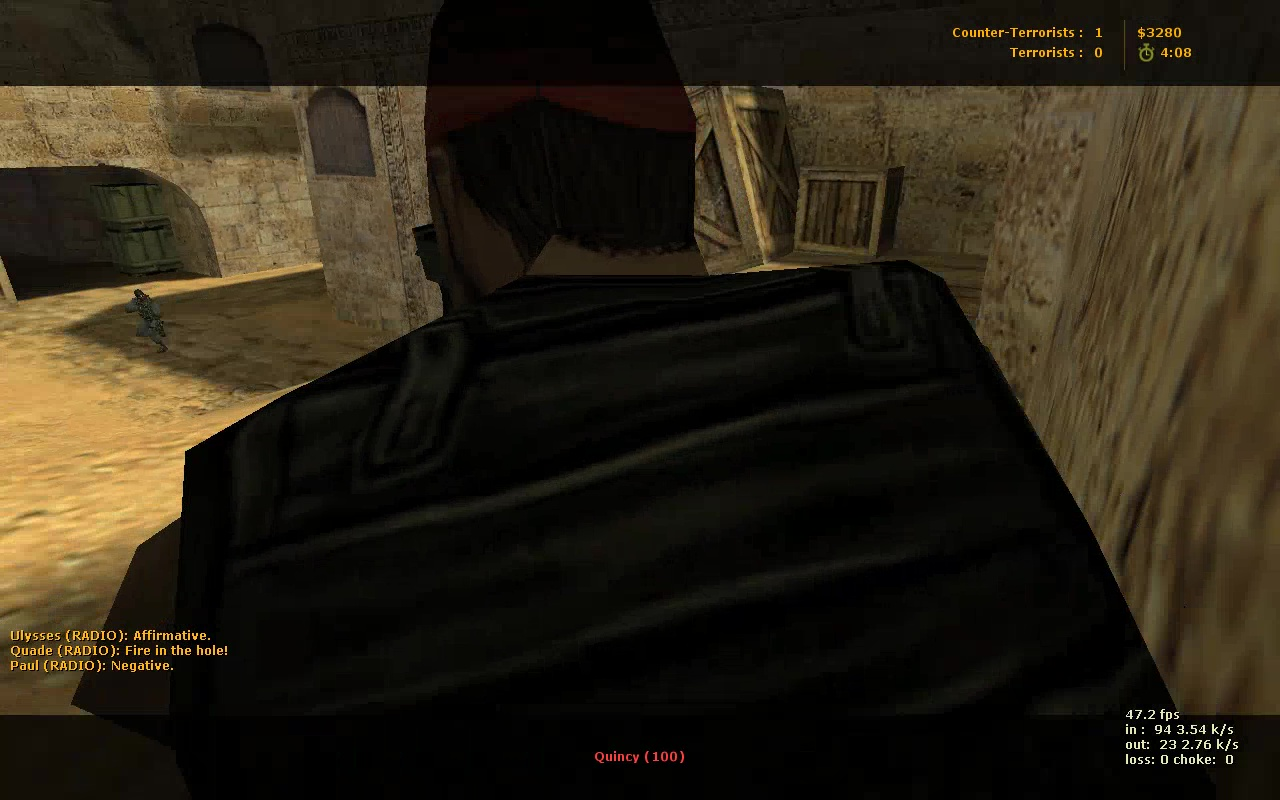ct: (126, 290, 177, 354)
